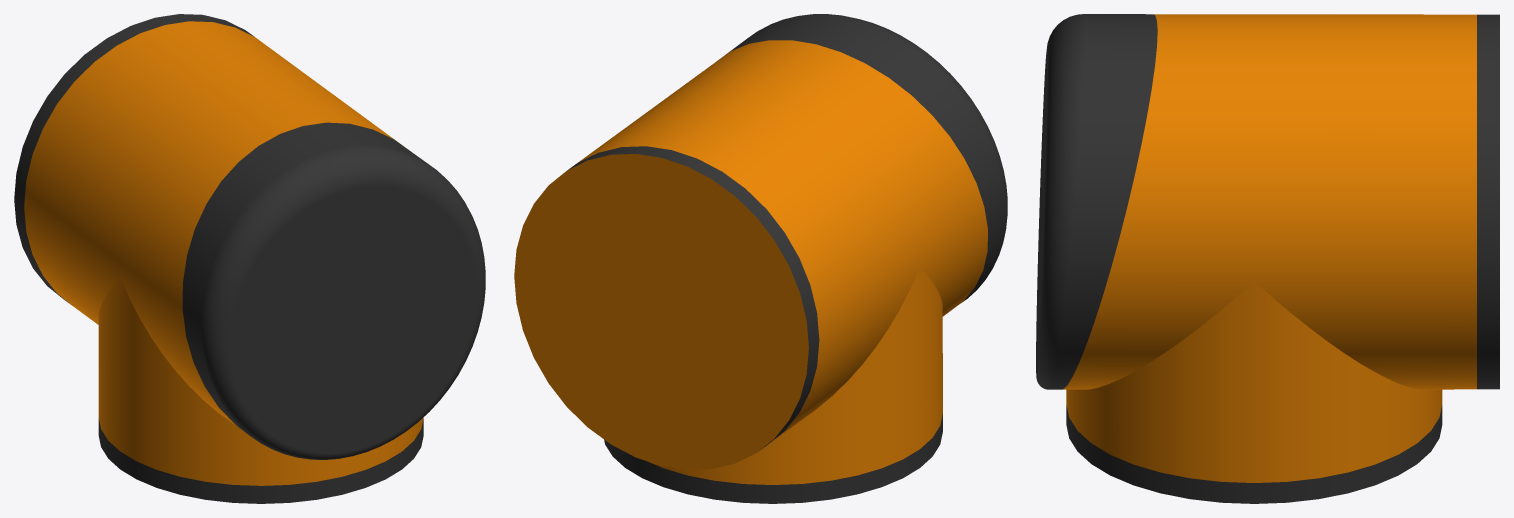
The picture shows the model from 3 angles, left to right: view 1: azimuth 30°, elevation 25°; view 2: azimuth 150°, elevation 25°; view 3: azimuth 270°, elevation 25°; orthographic projection. The views are drawn at different scales.
Parts seen in each view (by area): view 1: FBXASC194FBXASC183FBXASC195FBXASC150FBXASC194FBXASC184FBXASC; view 2: FBXASC194FBXASC183FBXASC195FBXASC150FBXASC194FBXASC184FBXASC; view 3: FBXASC194FBXASC183FBXASC195FBXASC150FBXASC194FBXASC184FBXASC.
Part boxes in pixels (x1,y1,x2,y2): FBXASC194FBXASC183FBXASC195FBXASC150FBXASC194FBXASC184FBXASC: (14,14,485,503); FBXASC194FBXASC183FBXASC195FBXASC150FBXASC194FBXASC184FBXASC: (514,14,1007,503); FBXASC194FBXASC183FBXASC195FBXASC150FBXASC194FBXASC184FBXASC: (1036,14,1499,503).
Size of the model in its own units: 0.098 by 0.1209 by 0.113.
